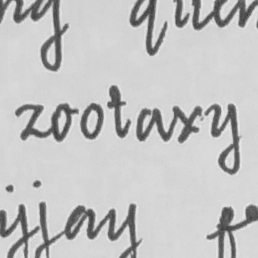a: (135, 105, 166, 145)
o: (78, 101, 105, 142), (49, 101, 74, 143)
t: (106, 83, 133, 141)
x: (170, 102, 204, 145)
y: (207, 100, 243, 176)
z: (13, 101, 46, 143)
